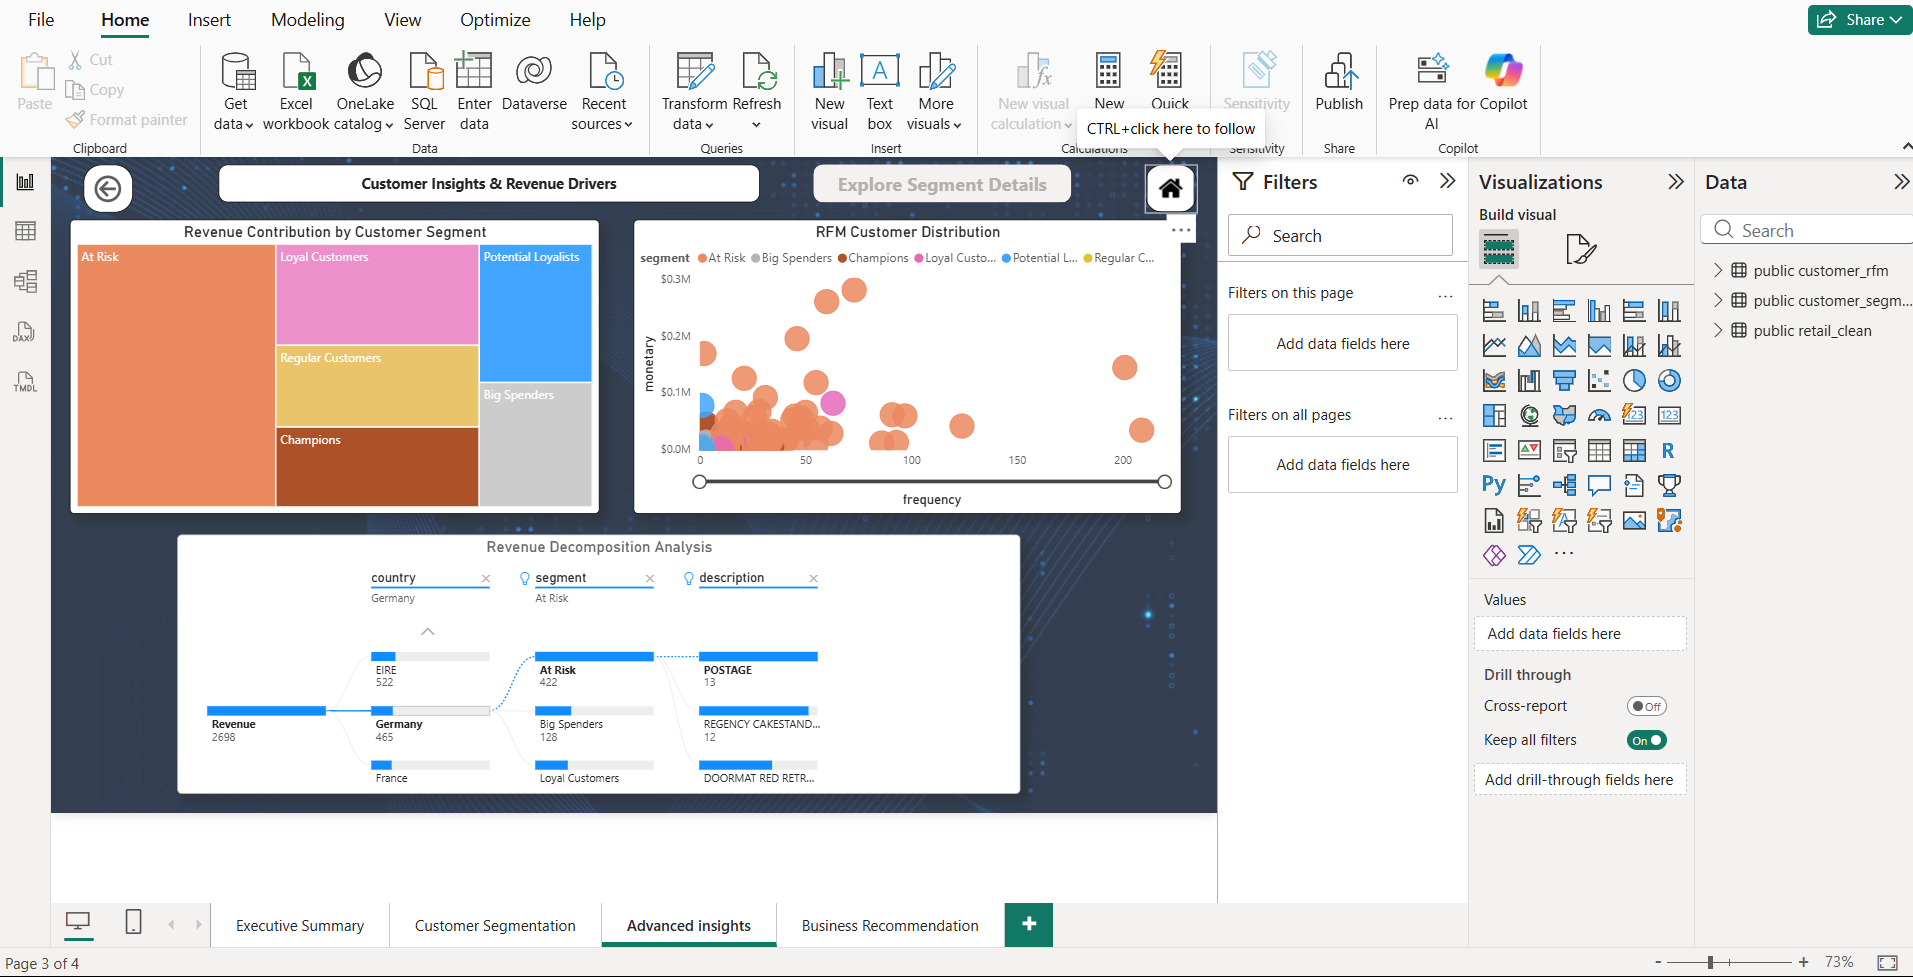

The page's visual inventory and layout, read from the dashboard file:
{"tool":"powerbi","page":{"name":"Advanced insights","canvas":[1280,720],"ordinal":2},"visuals":[{"type":"treemap","title":"Revenue Contribution by Customer Segment","fields":{"Group":["public customer_segments.segment"],"Values":["Count(public retail_clean.revenue)"]},"box":[20.5,68.8,581.5,323.3],"z":0},{"type":"decompositionTreeVisual","title":"Revenue Decomposition Analysis","fields":{"Analyze":["Count(public retail_clean.revenue)"],"ExplainBy":["public retail_clean.country","public customer_segments.segment","public retail_clean.description"]},"box":[138.7,413.8,925.3,284.7],"z":1000},{"type":"scatterChart","title":"RFM Customer Distribution","fields":{"X":["public customer_segments.frequency"],"Y":["public customer_segments.monetary"],"Size":["Count(public customer_segments.monetary)"],"Series":["public customer_segments.segment"]},"box":[640,68.6,601.4,322.9],"z":2000},{"type":"textbox","box":[184.3,8.6,594.3,41.4],"z":3000},{"type":"actionButton","box":[36.2,8.4,54.3,53.1],"z":4000},{"type":"actionButton","box":[837.1,8.6,282.9,41.4],"z":5000},{"type":"image","box":[1201.2,8.8,57.5,52.5],"z":6000}]}

Visuals, with their boxes on the page's 1280x720 design canvas (x1, y1, x2, y2). These are canvas units, not pixel positions in the 1913x977 screenshot, which may show the page scaled, cropped or inside an application window:
"Revenue Contribution by Customer Segment" treemap: select_region(20, 69, 602, 392)
"Revenue Decomposition Analysis" decompositionTreeVisual: select_region(139, 414, 1064, 698)
"RFM Customer Distribution" scatterChart: select_region(640, 69, 1241, 392)
textbox: select_region(184, 9, 779, 50)
actionButton: select_region(36, 8, 90, 62)
actionButton: select_region(837, 9, 1120, 50)
image: select_region(1201, 9, 1259, 61)
